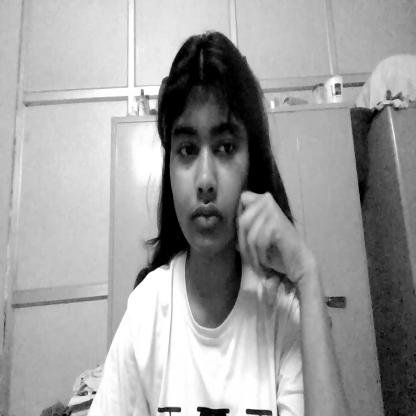Normal: (162, 35, 261, 268)
